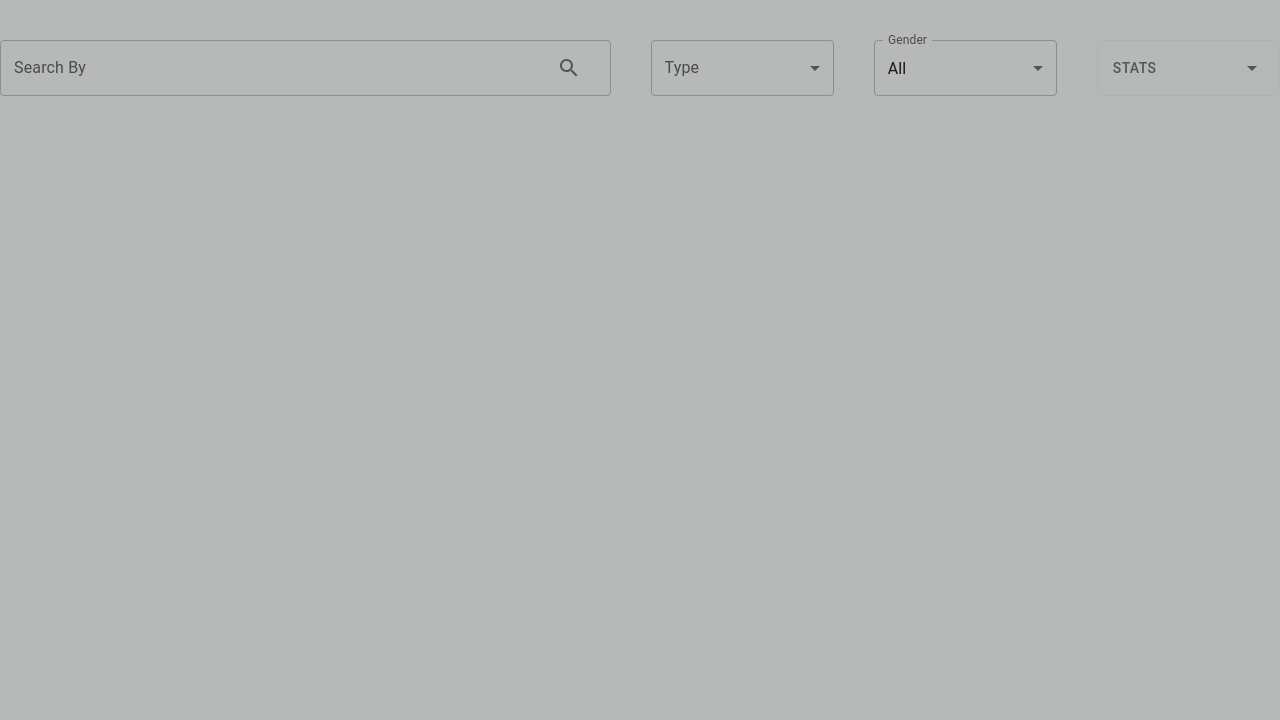
Test: FullWidthTextField › opens modal for Stats range filtering
The width and height of the screenshot is (1280, 720).
Click the button labelled "Stats" at (1188, 68), box x1=1097 y1=40 x2=1279 y2=96
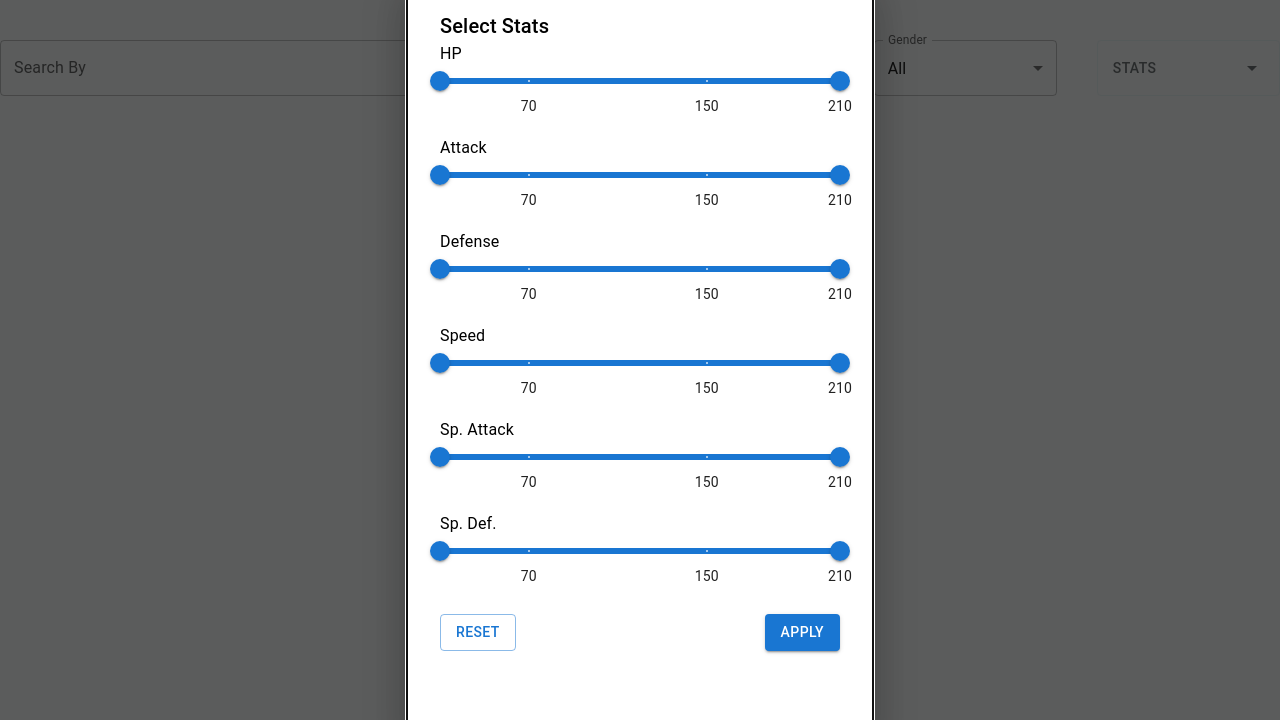
Expected: the heading "Select Stats" is shown, x1=440 y1=14 x2=549 y2=38
